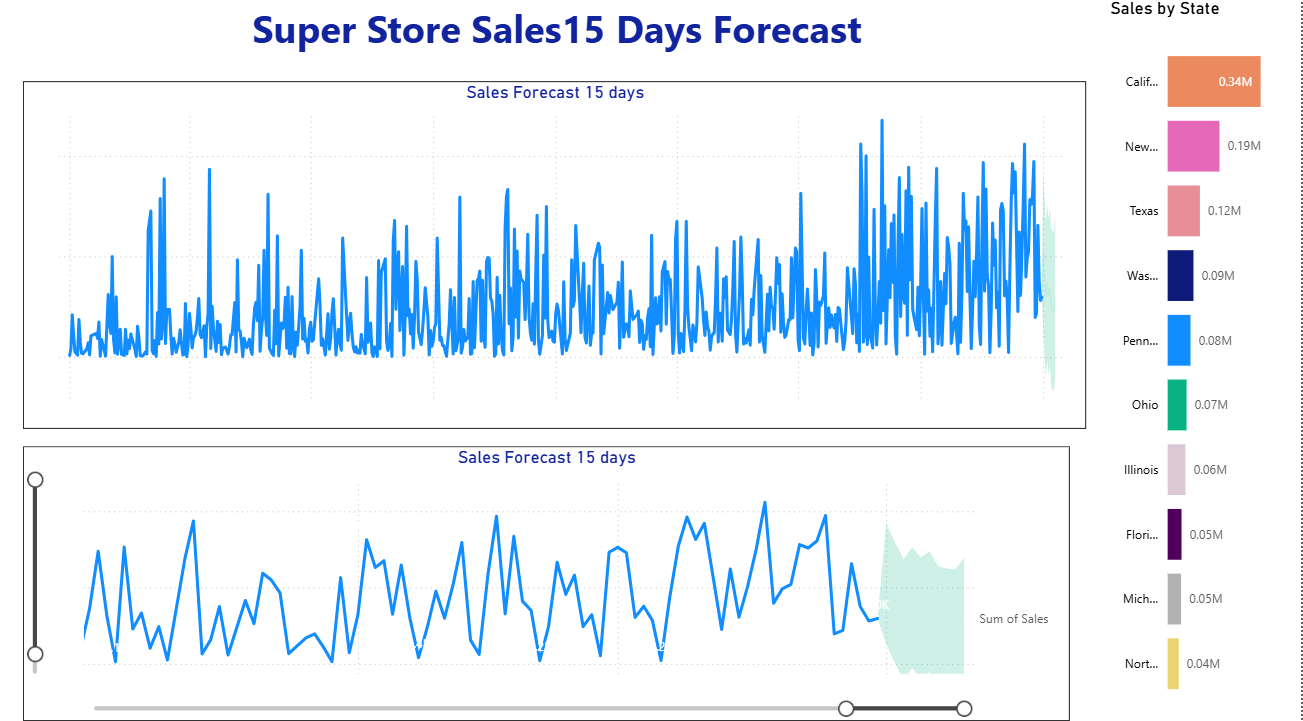

The page's visual inventory and layout, read from the dashboard file:
{"tool":"powerbi","page":{"name":"Page 2","canvas":[1280,720],"ordinal":1},"visuals":[{"type":"lineChart","title":"Sales Forecast 15 days","fields":{"Y":["Sum(SuperStore_Sales_Dataset.Sales)"],"Category":["SuperStore_Sales_Dataset.Order Date"]},"box":[28.8,94.7,1040.1,340.3],"z":0},{"type":"lineChart","title":"Sales Forecast 15 days","fields":{"Y":["Sum(SuperStore_Sales_Dataset.Sales)"],"Category":["SuperStore_Sales_Dataset.Order Date"]},"box":[28.8,451.5,1023.7,269],"z":1000},{"type":"textbox","box":[100.2,12.3,902.9,68.6],"z":3000},{"type":"clusteredBarChart","title":"Sales by State","fields":{"Category":["SuperStore_Sales_Dataset.State"],"Y":["Sum(SuperStore_Sales_Dataset.Sales)"]},"box":[1088.2,12.3,192.1,708.1],"z":4000}]}

Visuals, with their boxes in screenshot pixels (x1, y1, x2, y2), scaled from the page's 1280x720 canvas onto the 1303x721 screenshot:
"Sales Forecast 15 days" lineChart: locate(29, 95, 1088, 436)
"Sales Forecast 15 days" lineChart: locate(29, 452, 1071, 720)
textbox: locate(102, 12, 1021, 81)
"Sales by State" clusteredBarChart: locate(1108, 12, 1302, 720)
